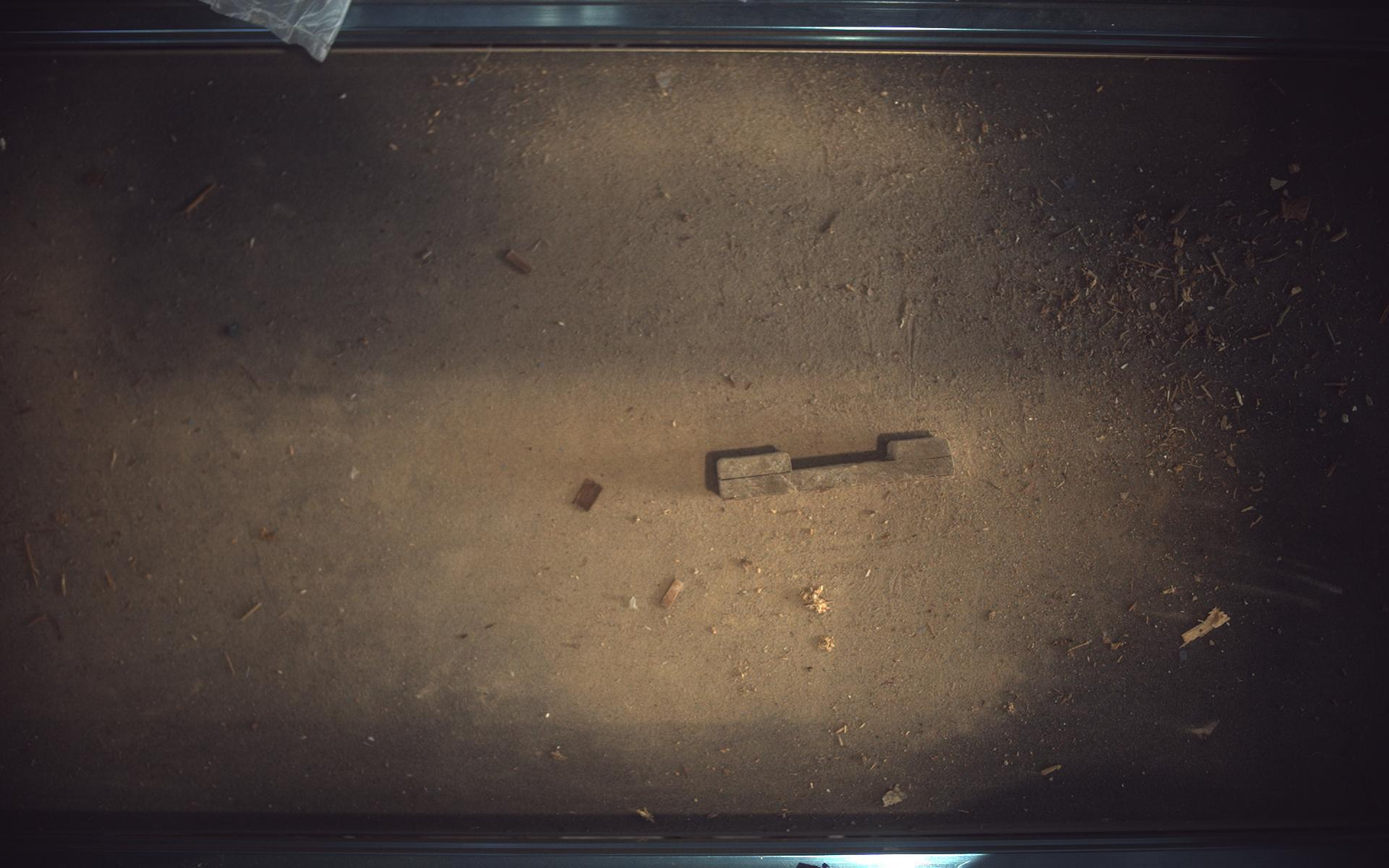wood: (709, 431, 955, 499)
